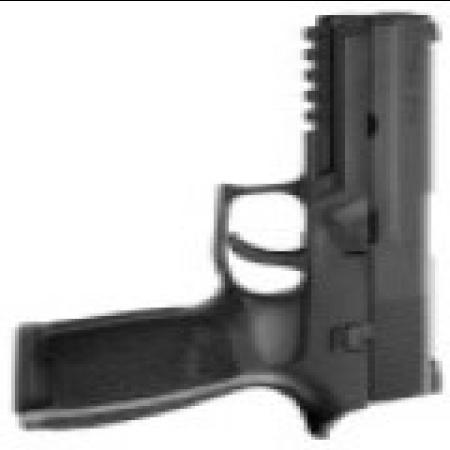Pistol: (15, 14, 443, 433)
